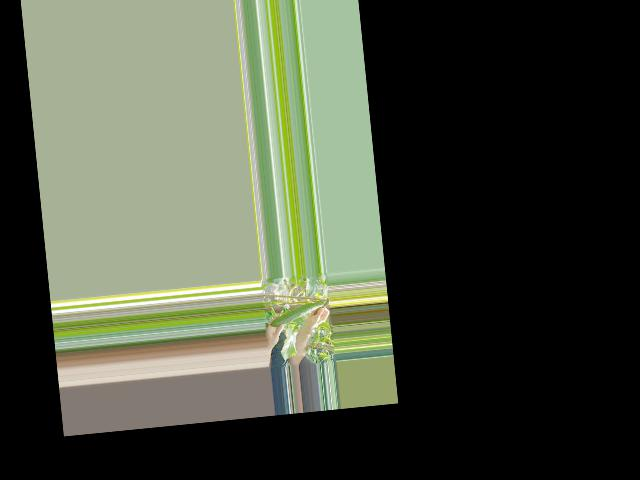cucumber: (268, 301, 325, 327)
